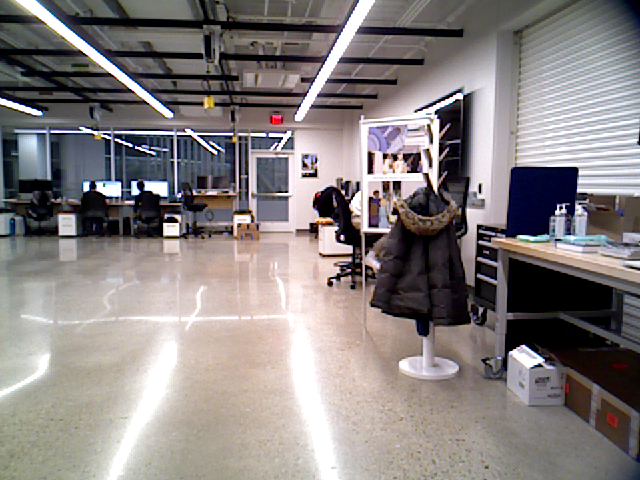painting3: (300, 152, 319, 178)
